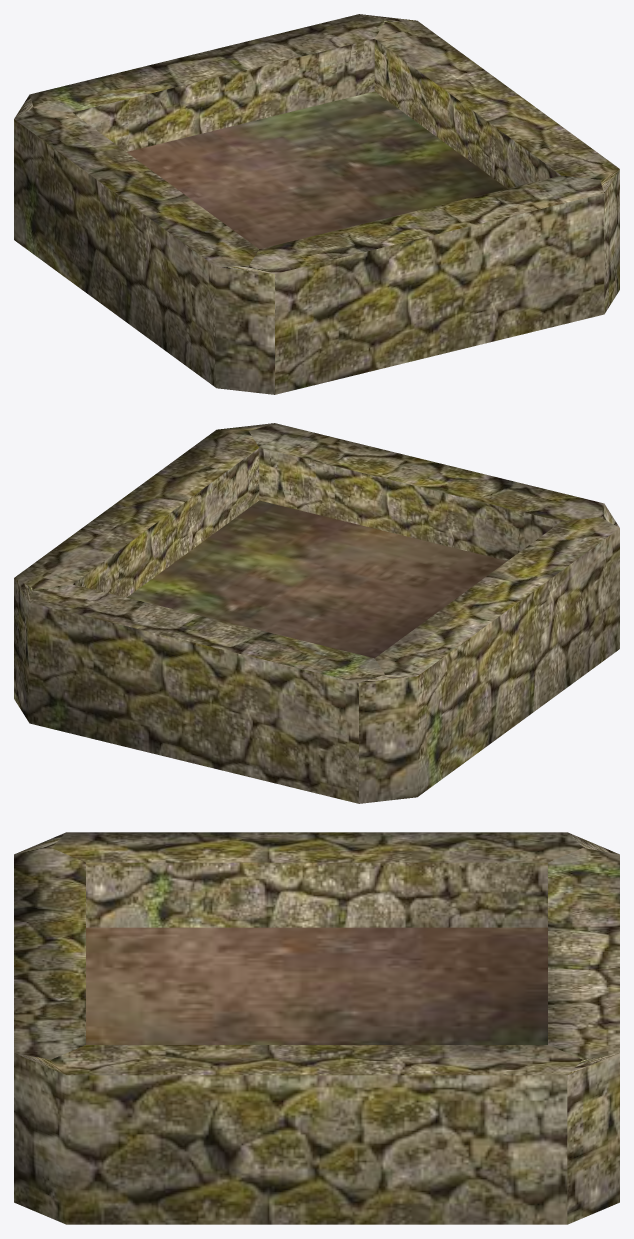
Rendered from sakura_planter.FBX.
The picture shows the model from 3 angles, top to bottom: view 1: azimuth 30°, elevation 25°; view 2: azimuth 150°, elevation 25°; view 3: azimuth 270°, elevation 25°; orthographic projection. The views are drawn at different scales.
Parts seen in each view (by area): view 1: sakura_planter; view 2: sakura_planter; view 3: sakura_planter.
Part boxes in pixels (<box>): sakura_planter: <box>14,14,619,394</box>; sakura_planter: <box>14,423,619,803</box>; sakura_planter: <box>14,832,619,1224</box>.
Size of the model in its own units: 103 by 29.47 by 108.
